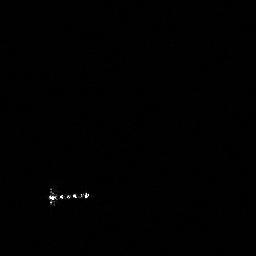ship: (43, 183, 92, 209)
